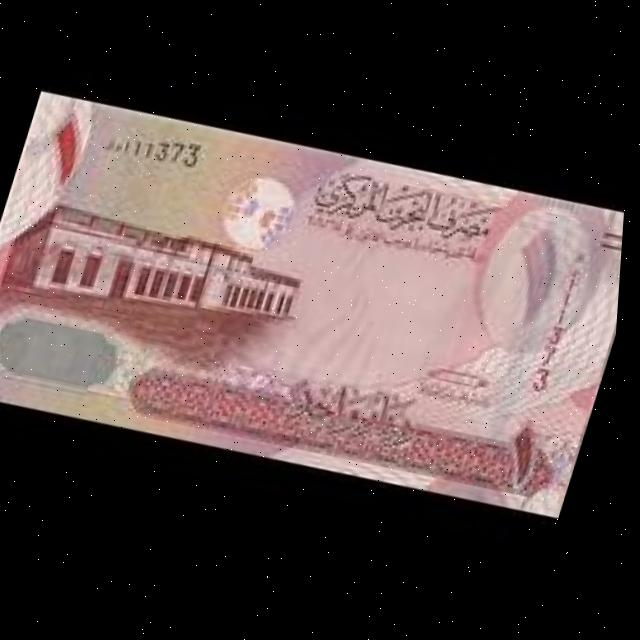banknote: (0, 68, 635, 543)
